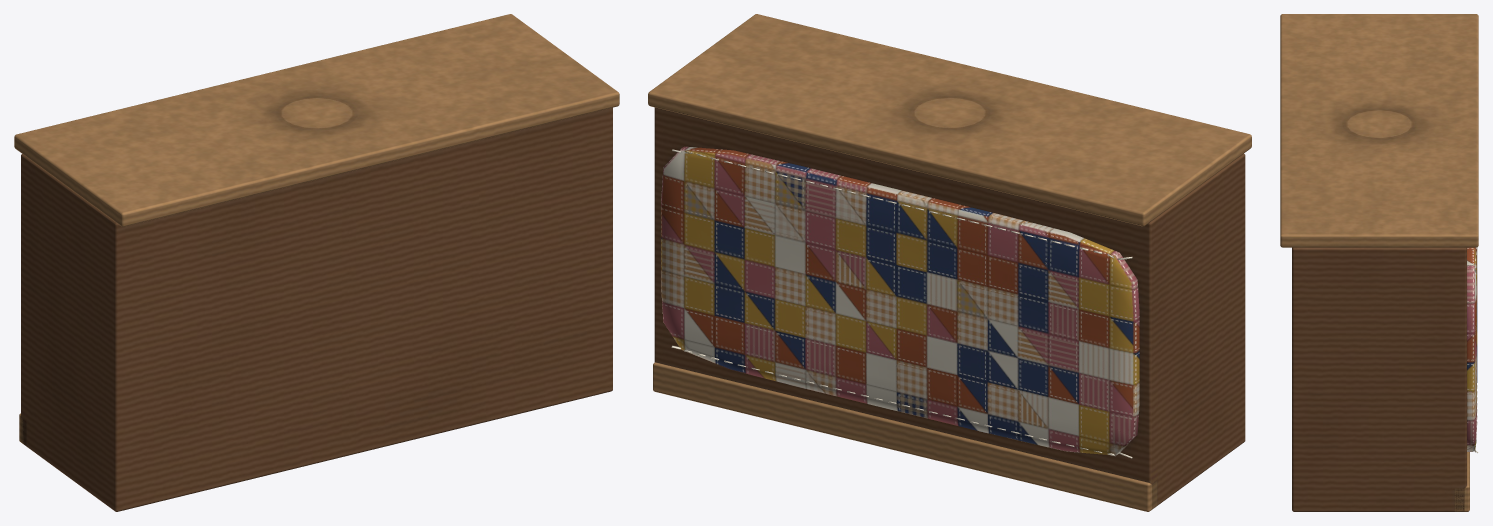
Rendered from counter_patch.glb.
The picture shows the model from 3 angles, left to right: view 1: azimuth 30°, elevation 25°; view 2: azimuth 150°, elevation 25°; view 3: azimuth 270°, elevation 25°; orthographic projection. The views are drawn at different scales.
Visible parts, largest first — view 1: counter_patch_wood_dark, counter_patch_wood; view 2: counter_patch_patch_warm, counter_patch_wood, counter_patch_wood_dark, counter_patch_thread; view 3: counter_patch_wood, counter_patch_wood_dark, counter_patch_patch_warm.
Part boxes in pixels (x1,y1,x2,y2): counter_patch_wood_dark: (21,107,612,511); counter_patch_wood: (14,14,619,444); counter_patch_patch_warm: (661,146,1139,455); counter_patch_wood: (648,14,1251,511); counter_patch_wood_dark: (654,107,1245,505); counter_patch_thread: (671,149,1132,458); counter_patch_wood: (1280,14,1478,511); counter_patch_wood_dark: (1292,247,1466,511); counter_patch_patch_warm: (1467,247,1477,451).
Size of the model in its own units: 3.6 by 2.1 by 1.36.
Materials: 4 (3 with a texture image).
